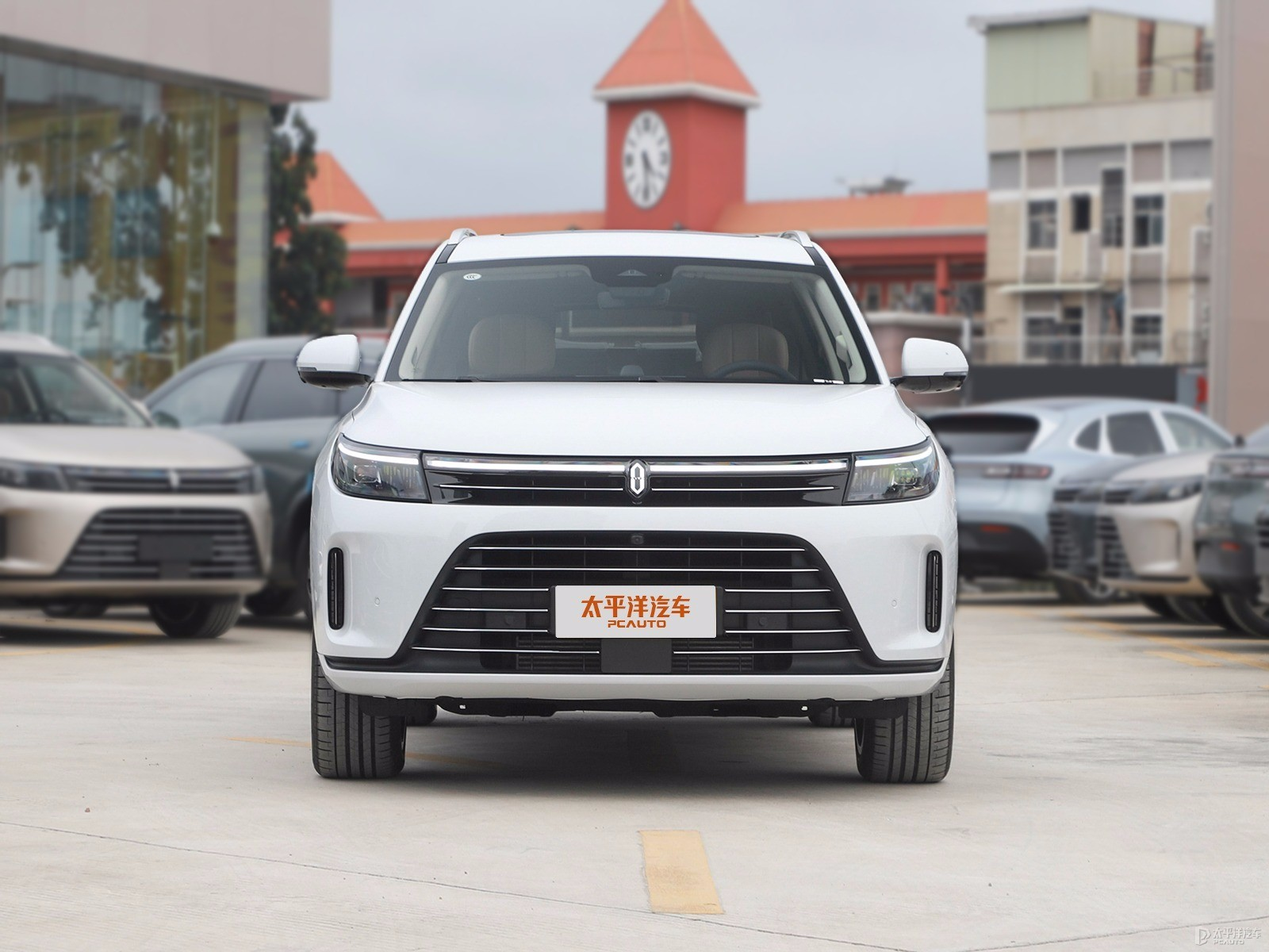AITO: (628, 461, 647, 497)
